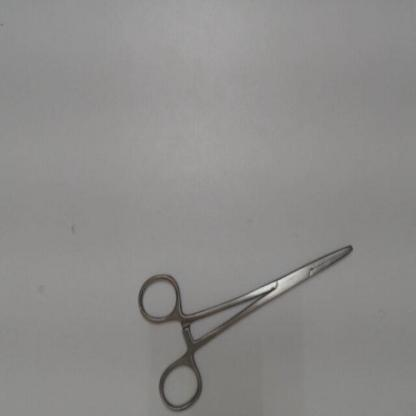Mayo Needle Holder: (130, 235, 361, 413)
